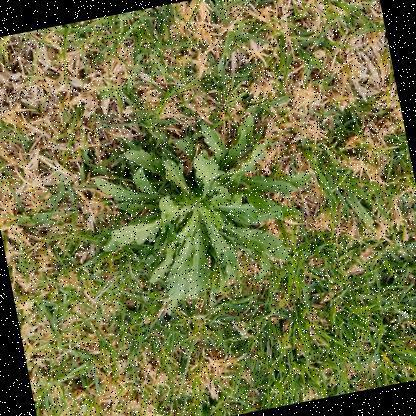Weeds: (86, 97, 332, 316)
